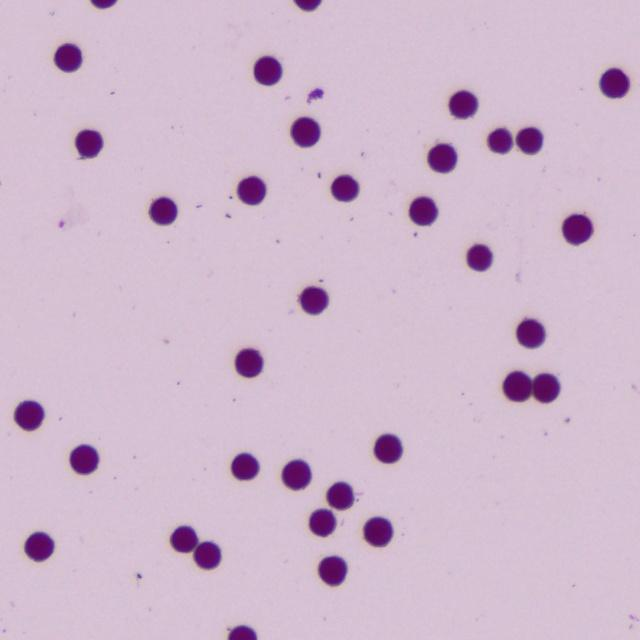viable: (14, 400, 44, 430), (562, 214, 592, 244), (69, 444, 98, 474), (516, 318, 545, 348), (318, 556, 347, 585), (25, 532, 54, 561), (237, 176, 266, 205), (363, 517, 392, 546), (503, 371, 531, 401), (282, 459, 310, 489), (374, 433, 402, 463), (600, 68, 628, 97), (299, 286, 328, 314), (291, 117, 319, 146), (54, 43, 82, 72), (149, 196, 177, 225), (409, 196, 437, 225), (235, 348, 263, 377), (449, 90, 477, 118), (75, 129, 103, 157), (254, 56, 281, 85), (309, 508, 336, 536), (533, 373, 559, 402), (427, 144, 456, 170), (170, 526, 198, 552), (331, 175, 358, 201), (194, 542, 220, 569), (231, 453, 258, 479), (327, 482, 353, 509), (518, 127, 543, 154), (467, 244, 492, 271), (487, 128, 512, 154), (228, 625, 256, 639), (294, 0, 321, 11), (91, 0, 116, 8)
